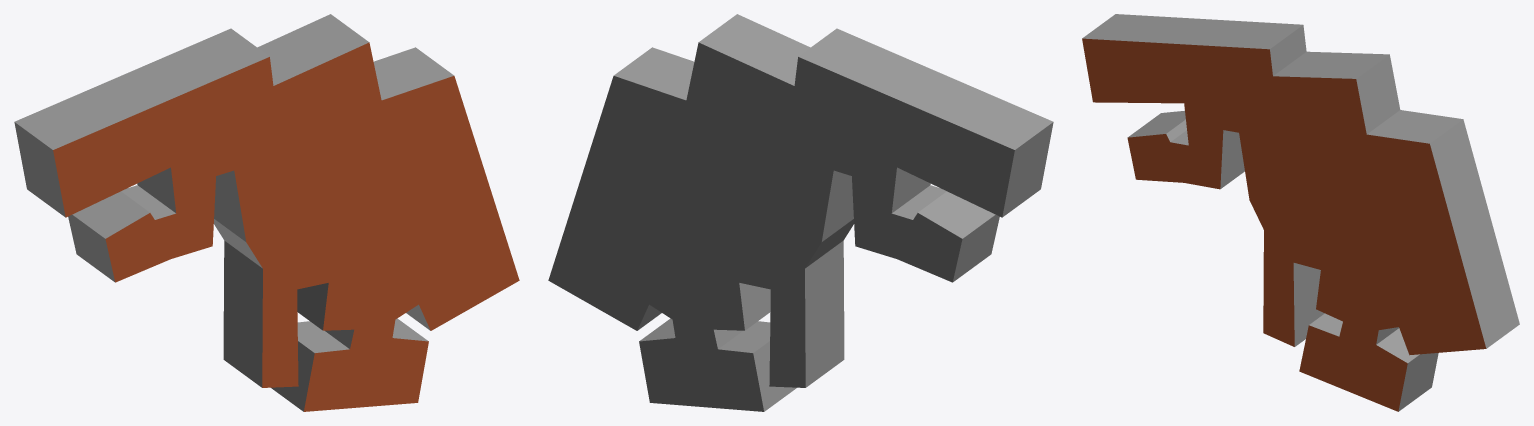
File: construction_6337_assumed_A_Casa_h6m.obj
The picture shows the model from 3 angles, left to right: view 1: azimuth 30°, elevation 25°; view 2: azimuth 150°, elevation 25°; view 3: azimuth 330°, elevation 25°; orthographic projection. The views are drawn at different scales.
Parts seen in each view (by area): view 1: construction_6337_assumed_A_Casa; view 2: construction_6337_assumed_A_Casa; view 3: construction_6337_assumed_A_Casa.
Part boxes in pixels (x1,y1,x2,y2): construction_6337_assumed_A_Casa: (14, 14, 519, 411); construction_6337_assumed_A_Casa: (548, 14, 1053, 411); construction_6337_assumed_A_Casa: (1082, 14, 1519, 411).
Bounding box in the file's own units: 41.72 × 32.66 × 6.
